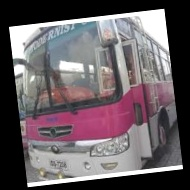bus: (12, 12, 180, 179)
